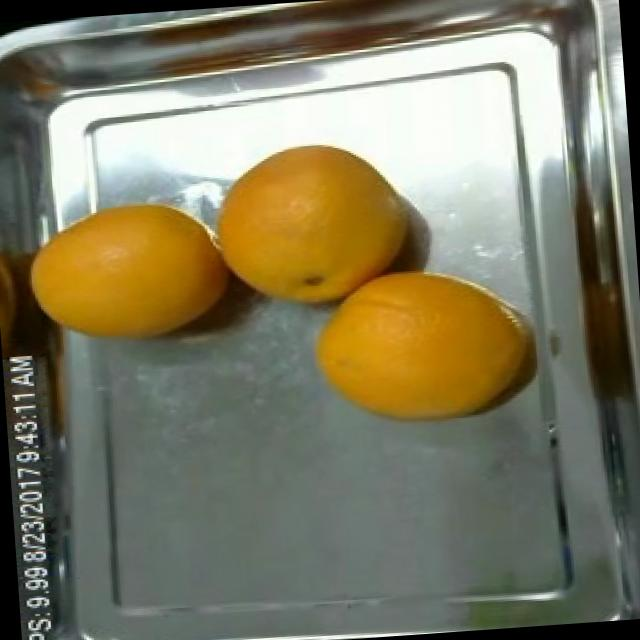Fruit: (190, 122, 417, 334), (3, 178, 240, 365)
